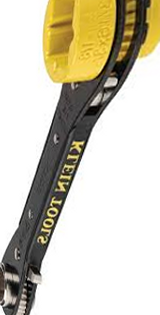wrench: (2, 2, 160, 315)
